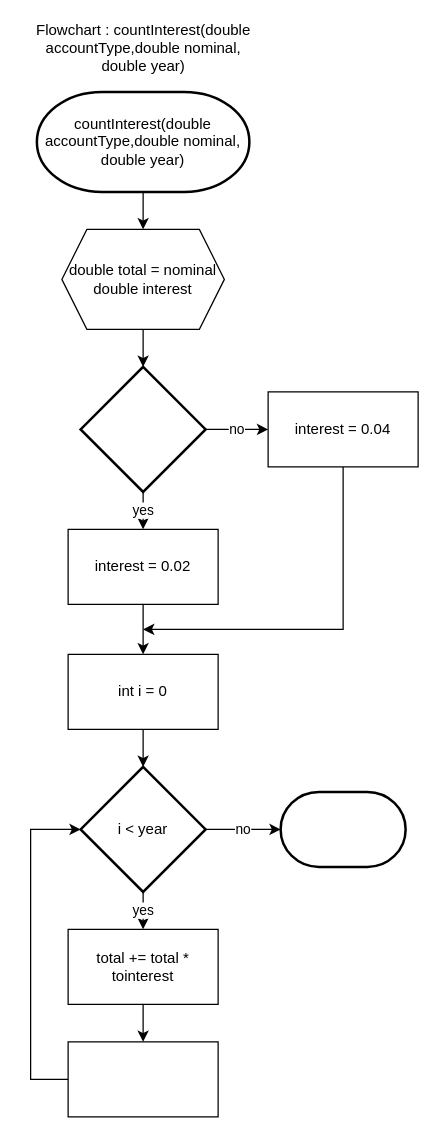
Some shapes in this 440 by 1139 pixel diagram are drawn without their labels. Each missing label, with the centre of its shape:
"accountType == 1" belongs at [142,428].
"i++" belongs at [142,1079].
"return total" belongs at [342,829].
